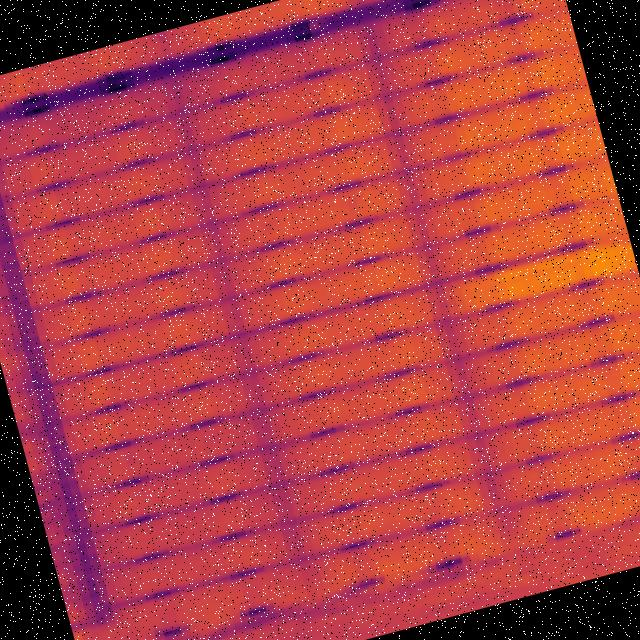Hotspot: (461, 236, 634, 312)
